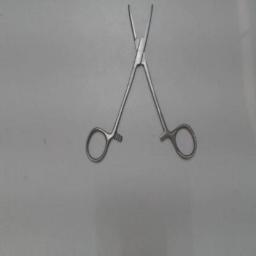Mayo Needle Holder: (82, 2, 202, 166)
